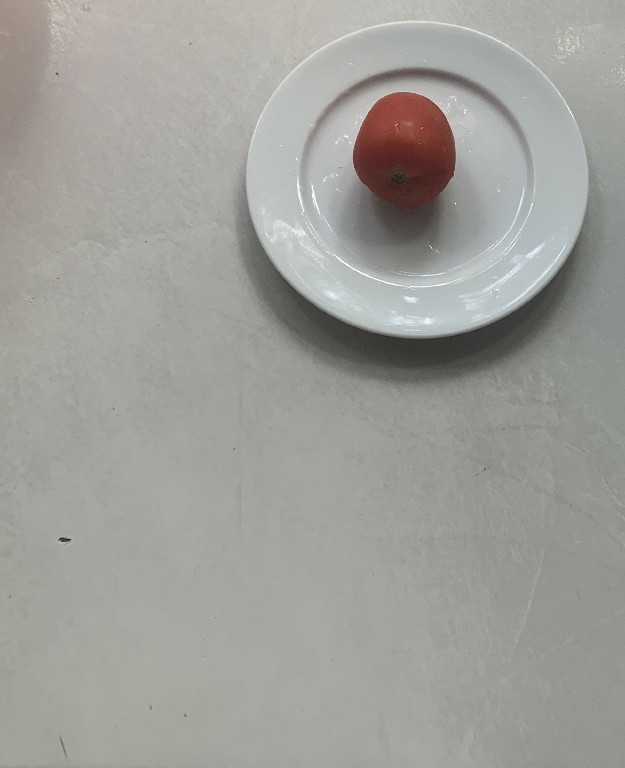OK: (351, 87, 452, 205)
